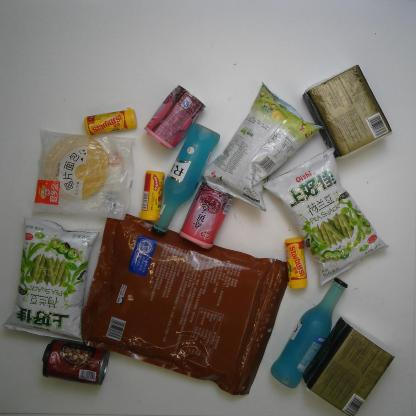Alcohol: (269, 277, 348, 389), (151, 122, 221, 236)
Candy: (83, 107, 139, 138), (139, 170, 165, 223), (284, 236, 309, 289)
Canned Food: (144, 84, 206, 152), (178, 181, 233, 250), (41, 339, 110, 385)
Dessert: (33, 128, 134, 220)
Dried Food: (81, 212, 288, 396)
Puffed Food: (262, 146, 390, 287), (200, 82, 324, 212), (2, 216, 100, 344)
Tissue: (302, 316, 396, 416), (302, 64, 394, 160)
